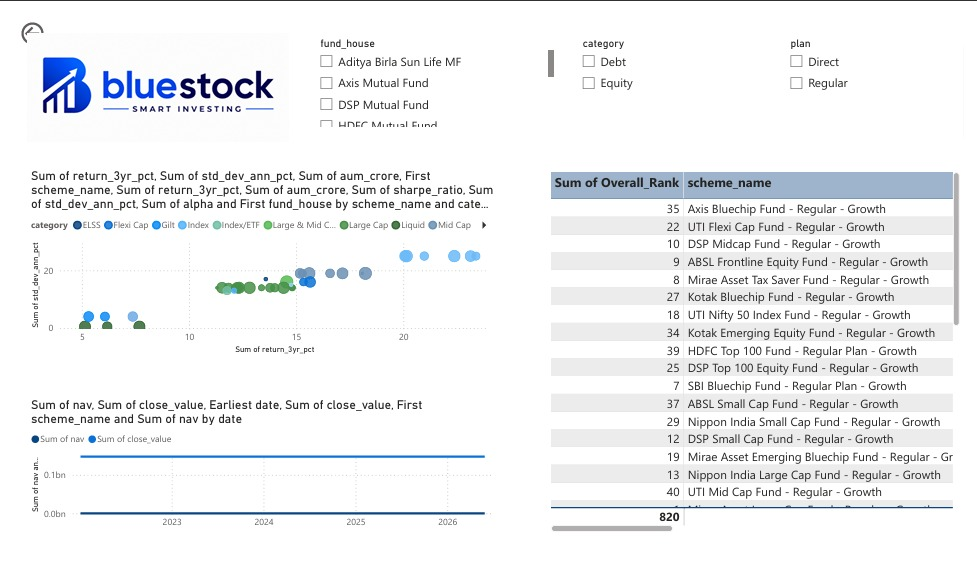

The page's visual inventory and layout, read from the dashboard file:
{"tool":"powerbi","page":{"name":"Fund Performance","canvas":[1280,720],"ordinal":1},"visuals":[{"type":"tableEx","fields":{"Values":["Sum(fund_scorecard.Overall_Rank)","fund_scorecard.scheme_name","fund_scorecard.fund_house","Sum(fund_scorecard.CAGR_3Y)","Sum(fund_scorecard.sharpe_ratio)","Sum(fund_scorecard.alpha)","Sum(fund_scorecard.expense_ratio_pct)","Sum(fund_scorecard.Fund_Score)","Sum(fund_scorecard.max_drawdown)"]},"box":[715.6,203.4,564.9,496.1],"z":1},{"type":"scatterChart","fields":{"X":["Sum(scheme_performance_clean.return_3yr_pct)"],"Y":["Sum(scheme_performance_clean.std_dev_ann_pct)"],"Series":["scheme_performance_clean.category"],"Size":["Sum(scheme_performance_clean.aum_crore)"],"Category":["scheme_performance_clean.scheme_name"]},"box":[13.2,203.4,636.6,254.6],"z":2},{"type":"lineChart","fields":{"Category":["nav_history_clean.date"],"Y":["Sum(nav_history_clean.nav)","Sum(benchmark_indices_clean.close_value)"]},"box":[13.2,512.2,636.6,187.3],"z":3},{"type":"slicer","fields":{"Values":["scheme_performance_clean.fund_house"]},"box":[396.6,20.5,335.1,130.2],"z":4},{"type":"slicer","fields":{"Values":["fund_master_clean.category"]},"box":[752.2,20.5,244.4,130.2],"z":5},{"type":"slicer","fields":{"Values":["fund_master_clean.plan"]},"box":[1033.2,20.5,219.5,130.2],"z":6},{"type":"actionButton","box":[0,0,100,40],"z":7},{"type":"image","box":[13.2,5.9,352.7,175.6],"z":8}]}

Visuals, with their boxes on the page's 1280x720 design canvas (x1, y1, x2, y2). These are canvas units, not pixel positions in the 977x567 screenshot, which may show the page scaled, cropped or inside an application window:
tableEx - Sum(fund_scorecard.Overall_Rank) x fund_scorecard.scheme_name: box=[716, 203, 1280, 700]
scatterChart - Sum(scheme_performance_clean.return_3yr_pct) x Sum(scheme_performance_clean.std_dev_ann_pct): box=[13, 203, 650, 458]
lineChart - nav_history_clean.date x Sum(nav_history_clean.nav): box=[13, 512, 650, 700]
slicer - scheme_performance_clean.fund_house: box=[397, 20, 732, 151]
slicer - fund_master_clean.category: box=[752, 20, 997, 151]
slicer - fund_master_clean.plan: box=[1033, 20, 1253, 151]
actionButton: box=[0, 0, 100, 40]
image: box=[13, 6, 366, 182]
